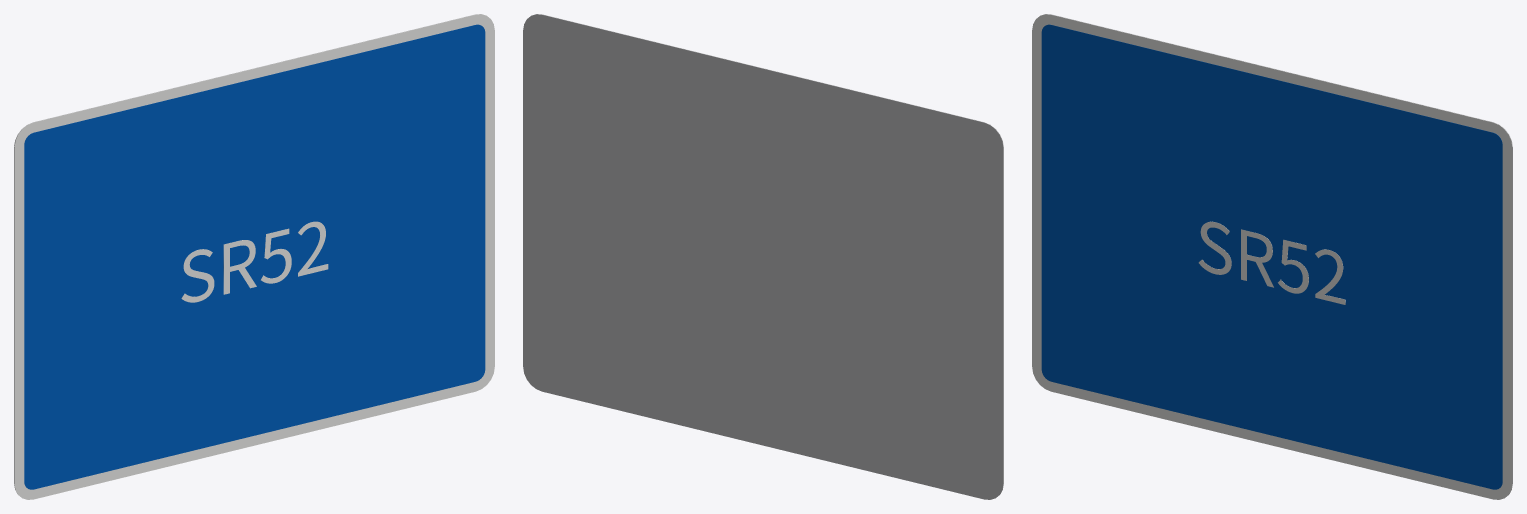
3 renders of one model, left to right at view 1: azimuth 30°, elevation 25°; view 2: azimuth 150°, elevation 25°; view 3: azimuth 330°, elevation 25°, orthographic.
Parts seen in each view (by area): view 1: SR52_fond01, SR52_cadre00, SR52_txt02, SR52_dos; view 2: SR52_dos; view 3: SR52_fond01, SR52_cadre00, SR52_txt02, SR52_dos.
Part boxes in pixels (x1=…): SR52_fond01: x1=24, y1=24, x2=485, y2=489; SR52_cadre00: x1=14, y1=14, x2=494, y2=499; SR52_txt02: x1=181, y1=221, x2=328, y2=302; SR52_dos: x1=14, y1=14, x2=483, y2=493; SR52_dos: x1=523, y1=14, x2=1003, y2=499; SR52_fond01: x1=1041, y1=24, x2=1502, y2=489; SR52_cadre00: x1=1032, y1=14, x2=1512, y2=499; SR52_txt02: x1=1198, y1=221, x2=1345, y2=304; SR52_dos: x1=1043, y1=14, x2=1512, y2=493.
Size of the model in its own units: 1 by 0.75 by 0.0025.
